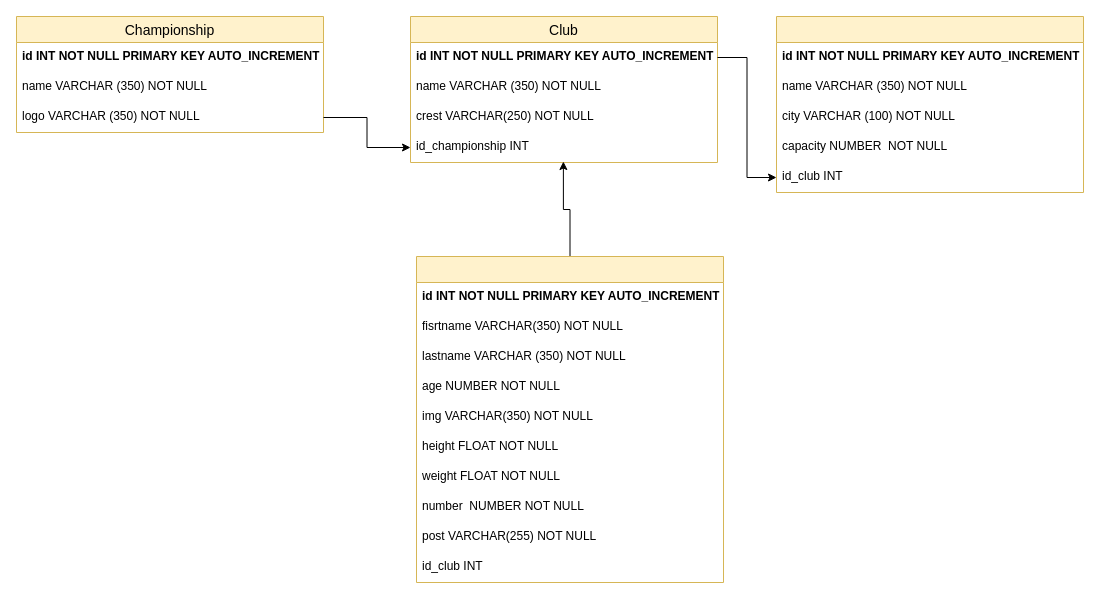
Image size: 1100x599. Some labels were removed from this diagram. Each missing label, with the box of its shape:
Football player: (416, 256, 724, 582)
Stadium: (776, 16, 1084, 192)
